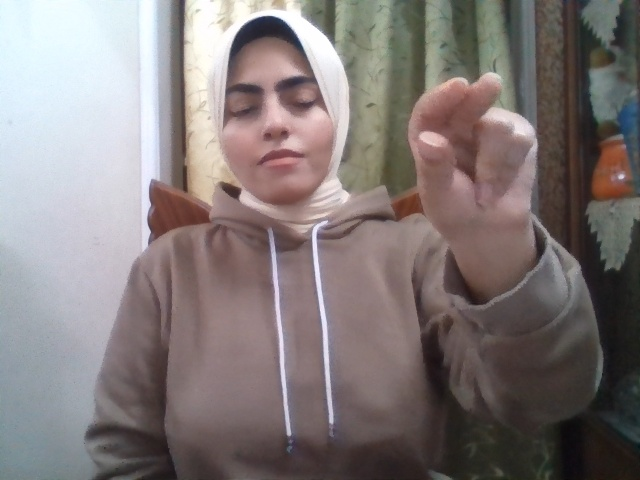no: (408, 72, 539, 239)
